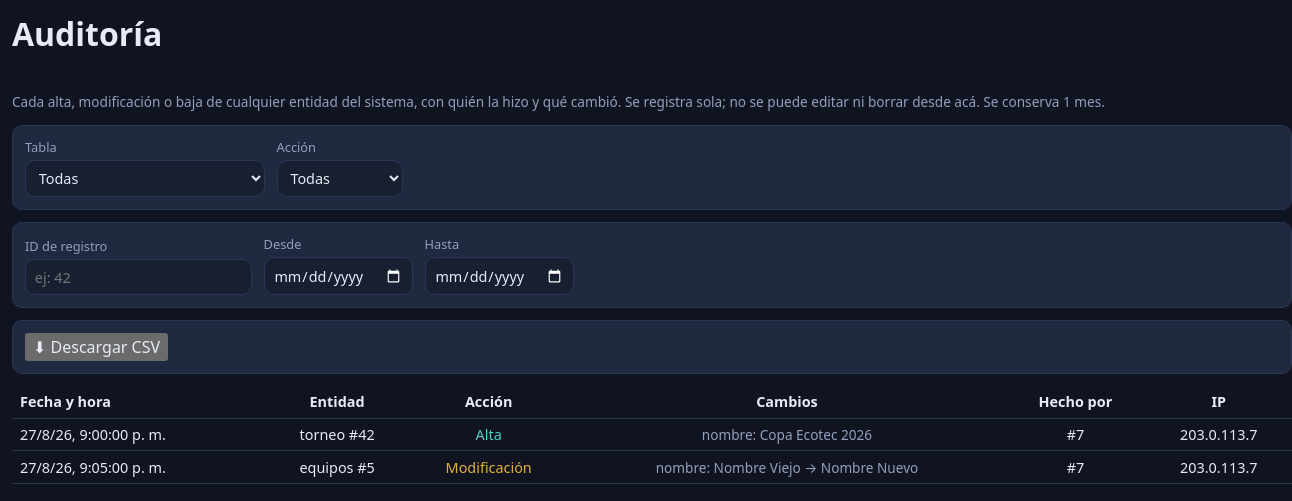
Test: AuditoriaAdminPage › filtra por registro_id contra el servidor (3A-2)
The width and height of the screenshot is (1292, 501).
Check: the text "torneo #42" is shown, box x1=266 y1=418 x2=409 y2=451
Type "5" into the number field labelled "ID de registro" at (138,277), box x1=25 y1=259 x2=252 y2=295
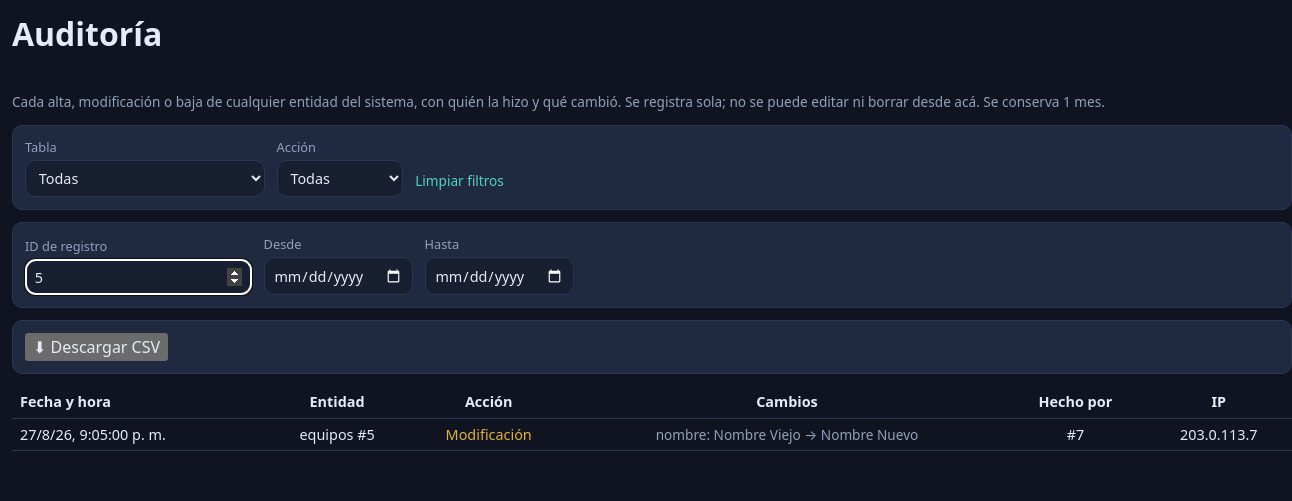
Check: the text "equipos #5" is shown, box x1=266 y1=418 x2=409 y2=451
Check: the text "torneo #42" is gone
